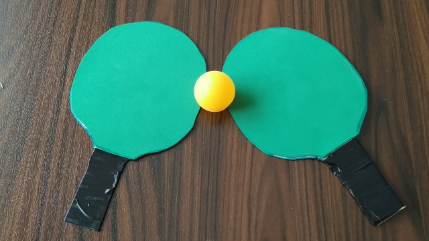ball: (190, 65, 240, 116)
